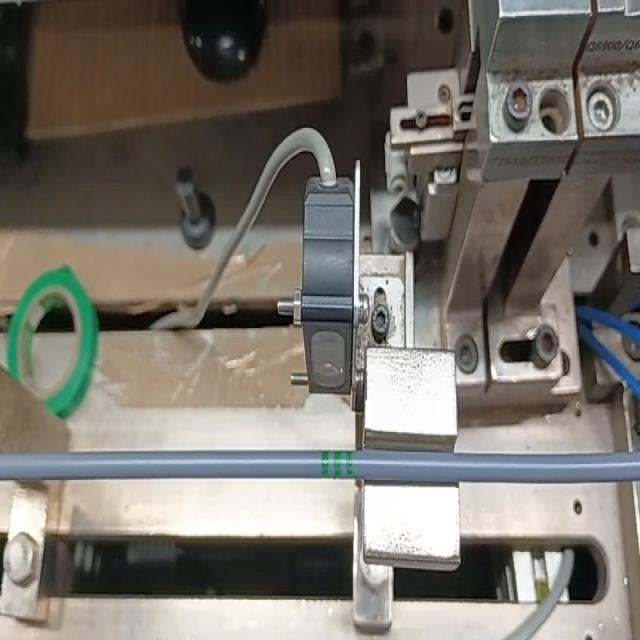green: (320, 448, 355, 481)
